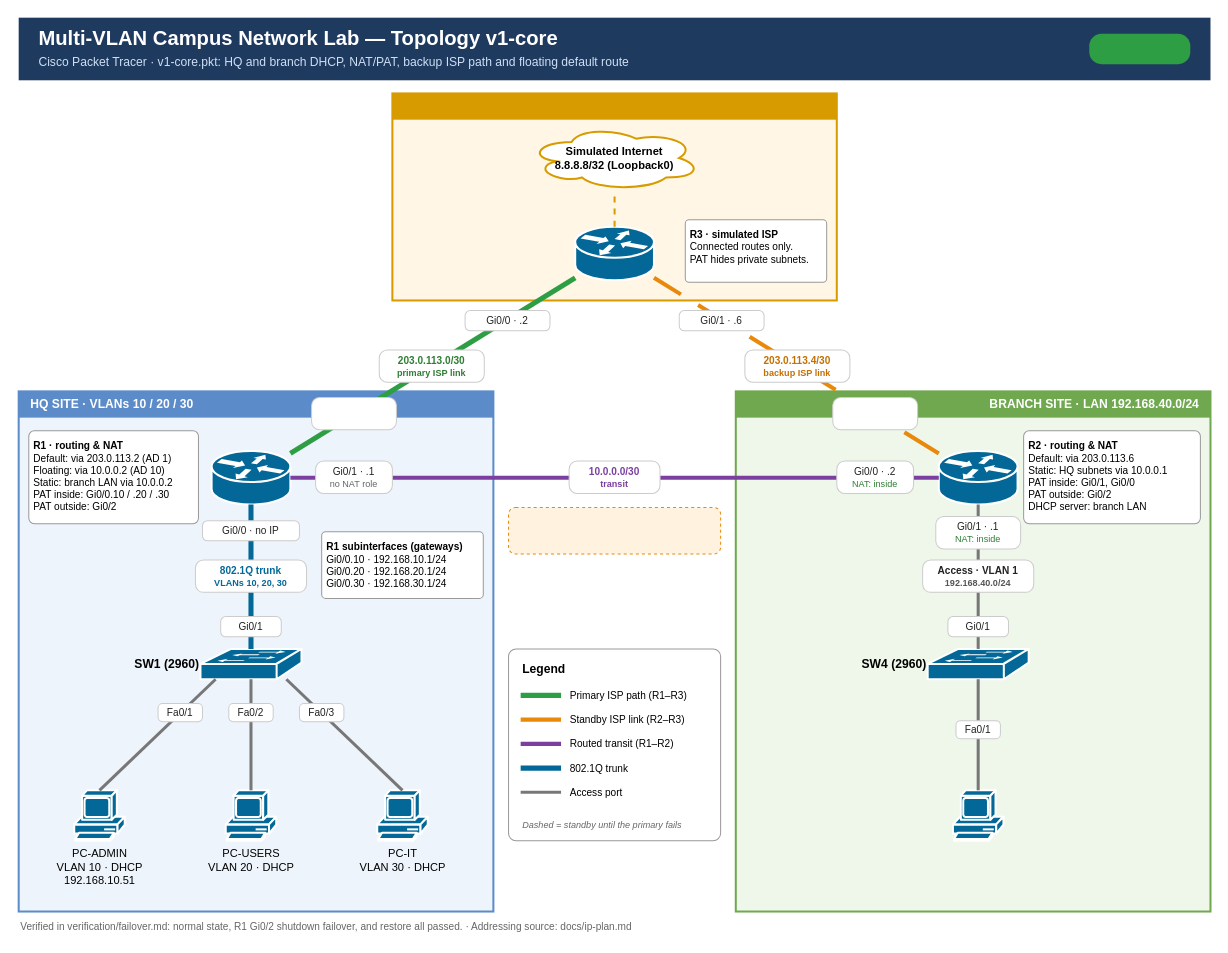
Image size: 1228x953. Some labels were removed from this diagram. The centre of each missing label's shape, as x and y in pixels:
"Failover path R1 → 10.0.0.2 → R2 → R3 floating default (AD 10)" goes at [614,530].
"Gi0/2 · .1 NAT: outside" goes at [353,413].
"Gi0/2 · .5 NAT: outside" goes at [875,413].
"ISP (SIMULATED)" goes at [614,106].
"PC-BRANCH DHCP from R2 192.168.40.51" goes at [977,815].
"R1 (2911)" goes at [250,477].
"R2 (2911)" goes at [977,477].
"R3 (2911)" goes at [614,253].
"v1-core" goes at [1139,48].
